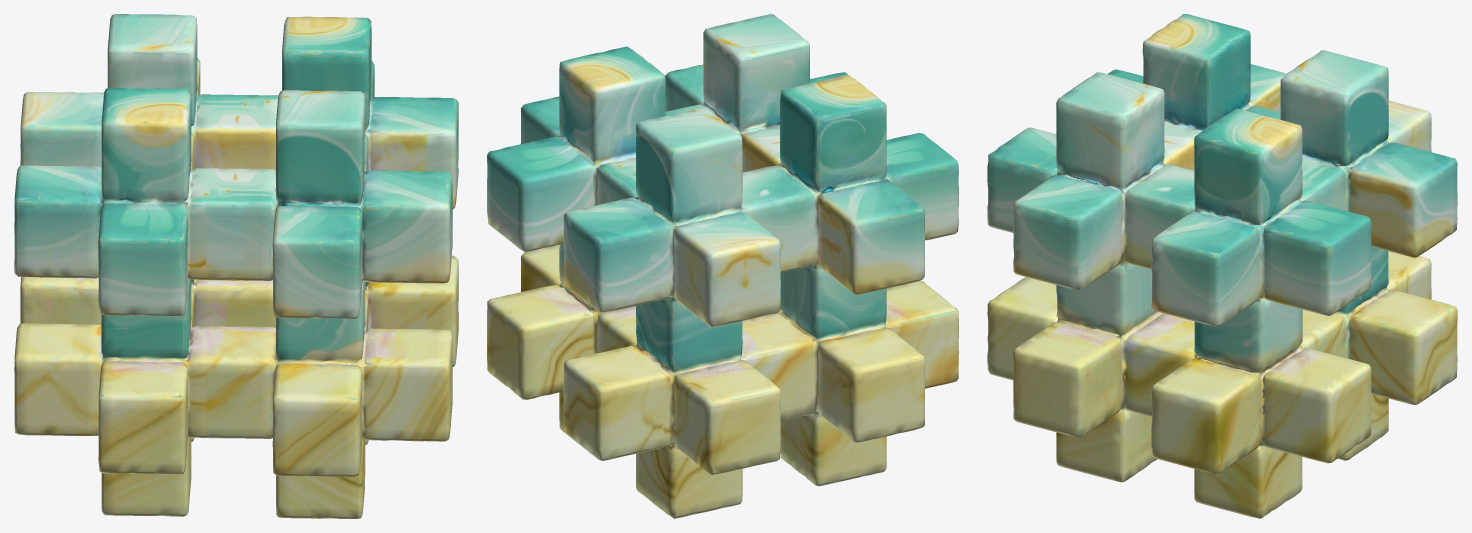
The picture shows the model from 3 angles, left to right: view 1: azimuth 30°, elevation 25°; view 2: azimuth 150°, elevation 25°; view 3: azimuth 270°, elevation 25°; orthographic projection. The views are drawn at different scales.
Bounding box in the file's own units: 0.1321 × 0.1142 × 0.1321.
1 material, 1 textured.
